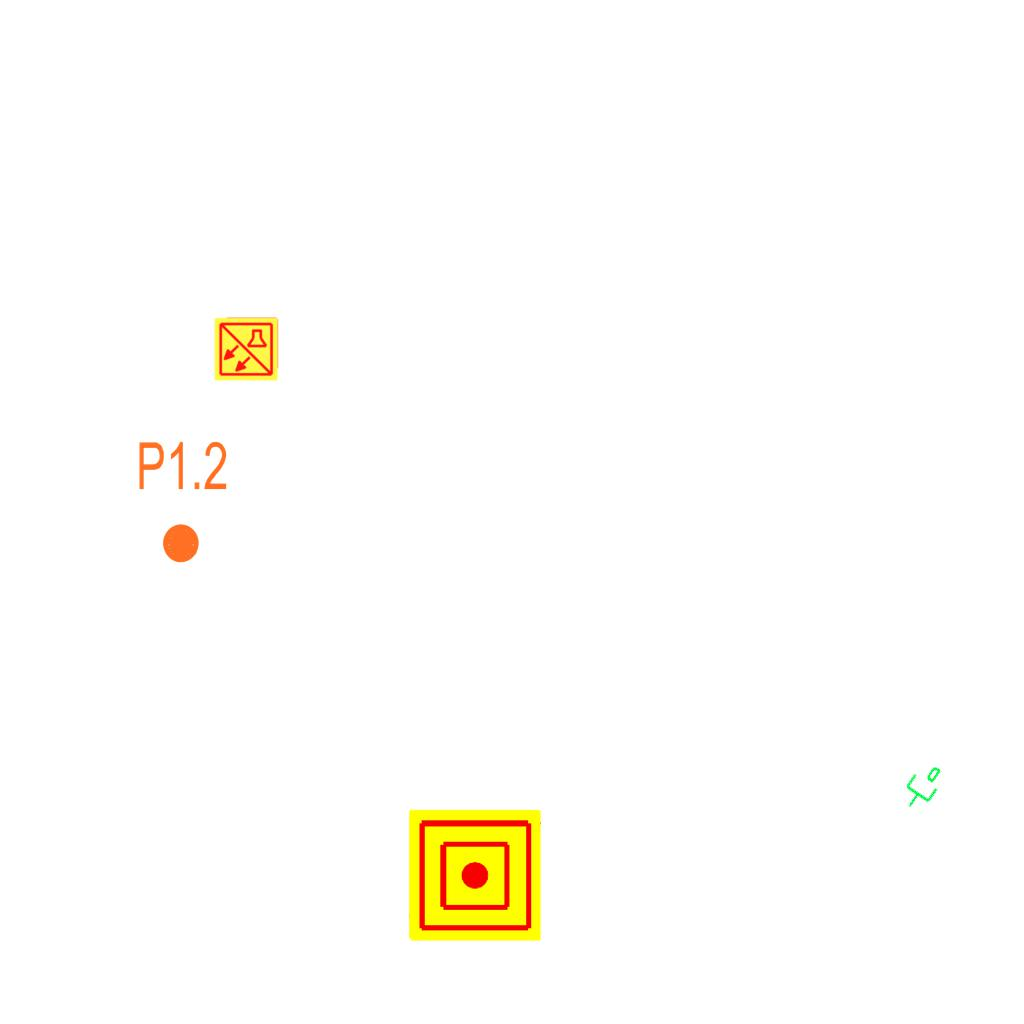Datenanschluss_einfach: (893, 755, 951, 817)
Downlight_LED_Einbauleuchten_Flur: (136, 438, 229, 566)
NAM-Nichtautomatischer_Melder: (409, 809, 541, 941)
OKW_Multisensormelder_(Kombination_optischer_Rauch-Kahlenmonoxid_Waerme-Melder): (213, 316, 279, 382)
